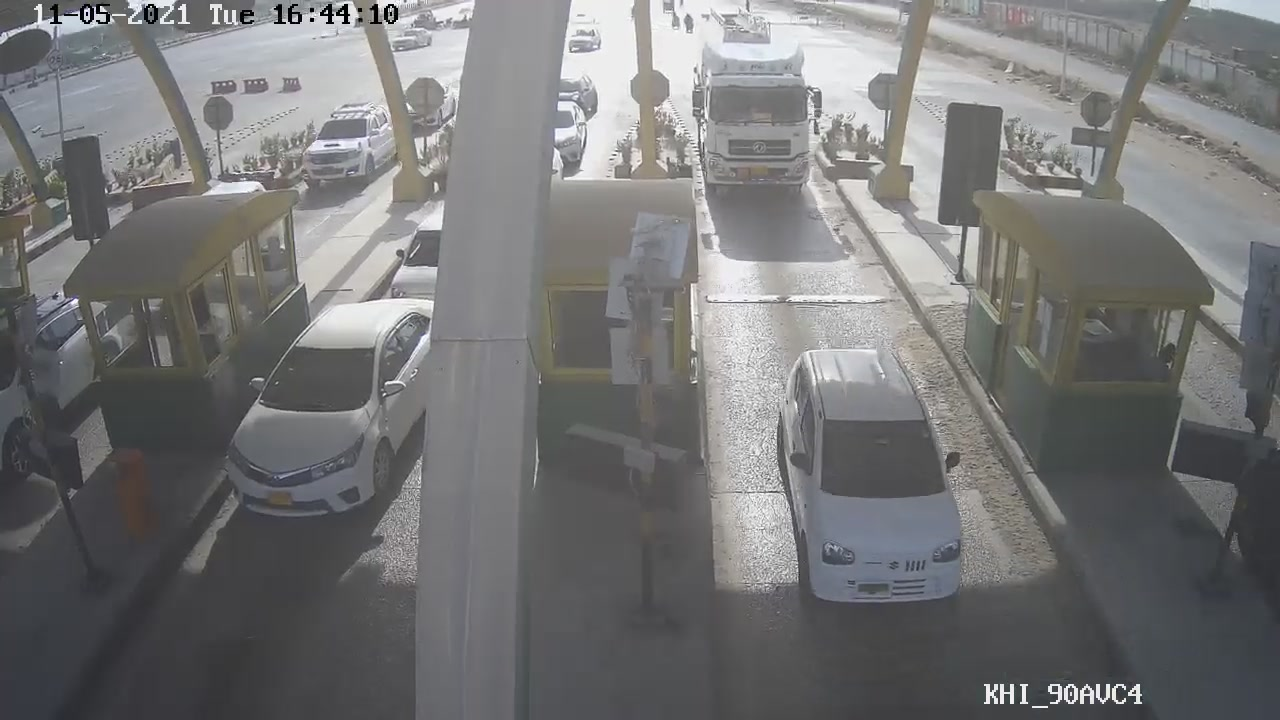F1: (768, 350, 970, 608)
